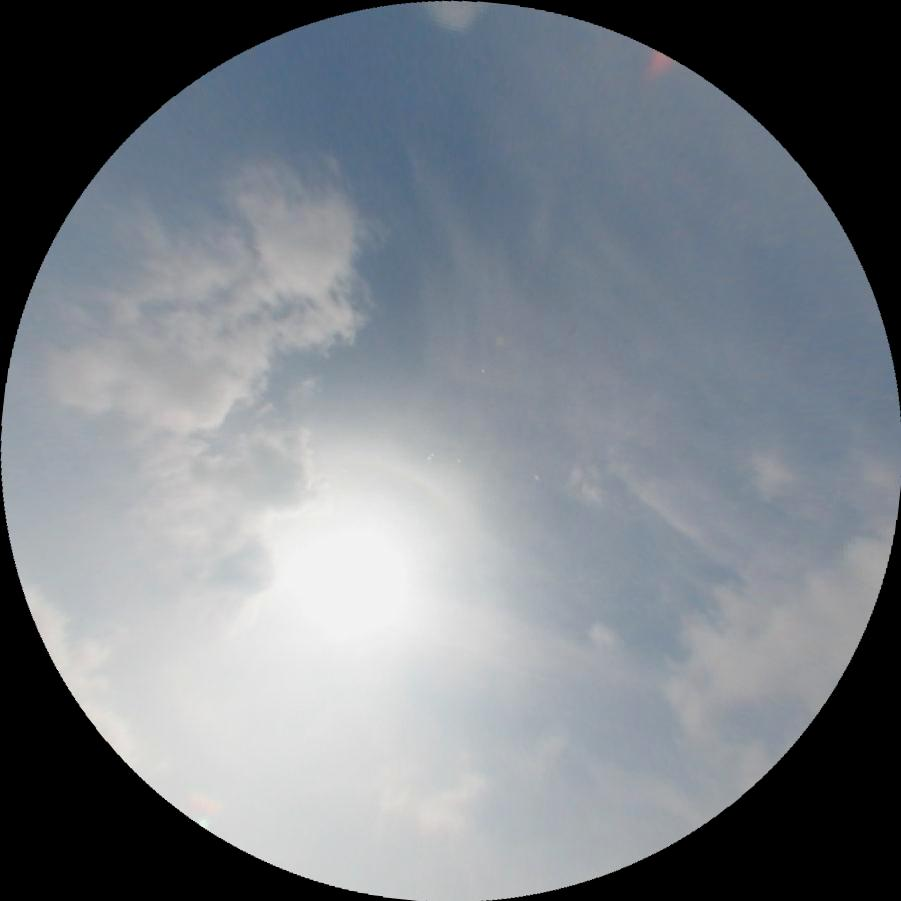sun: (270, 514, 425, 672)
